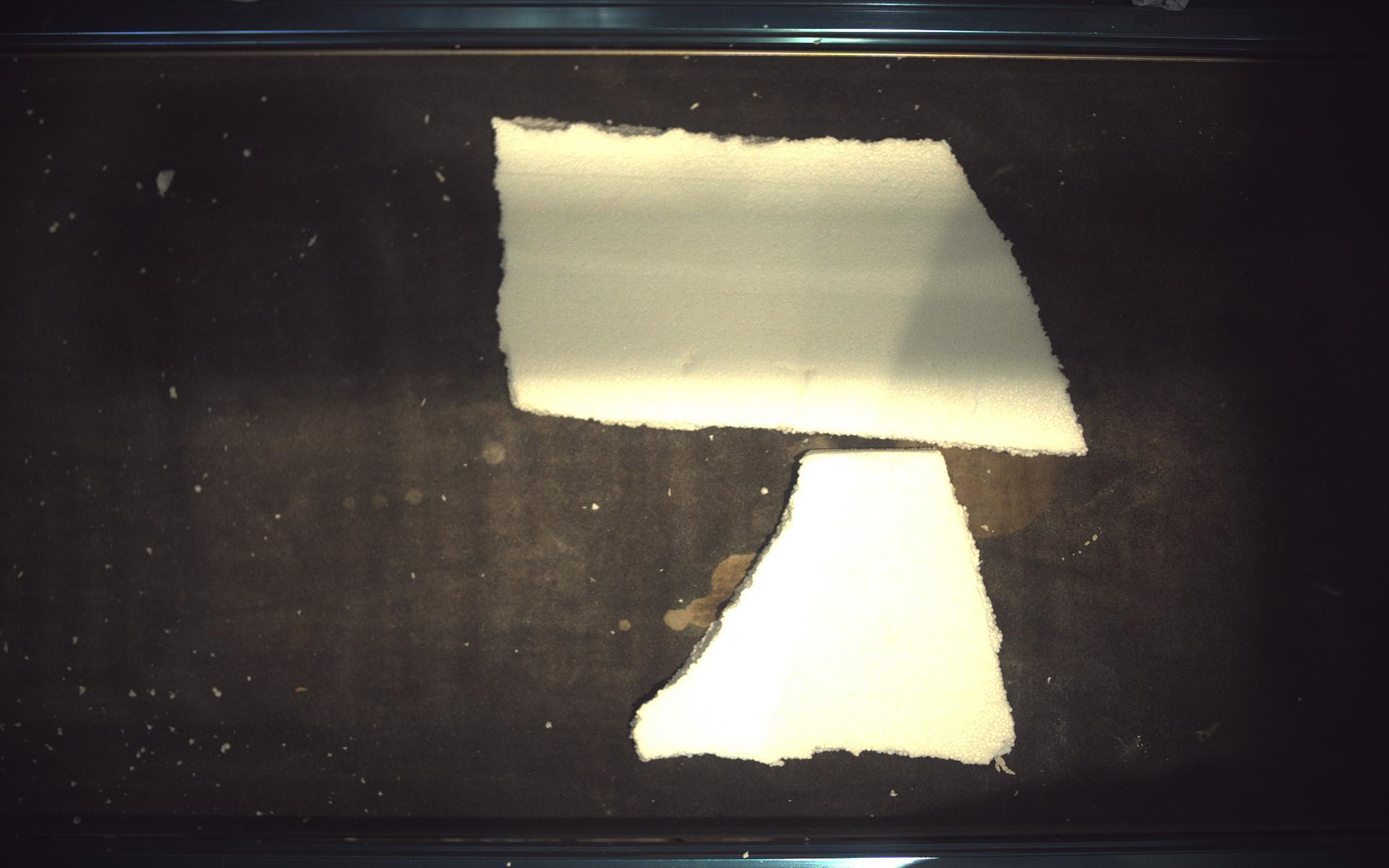foam: (493, 116, 1087, 455), (634, 451, 1017, 766)
